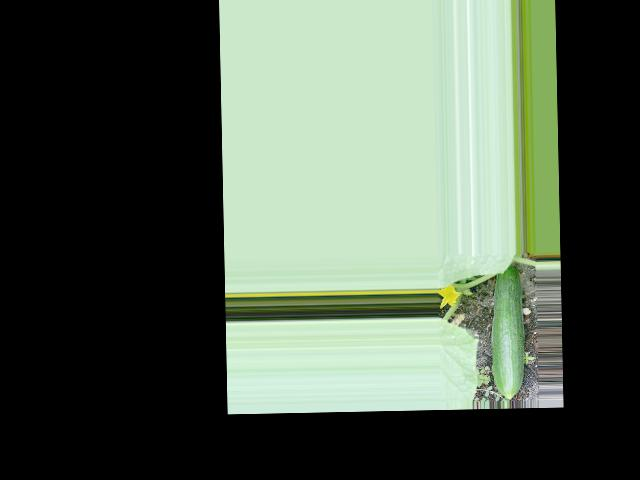cucumber: (490, 265, 526, 400)
